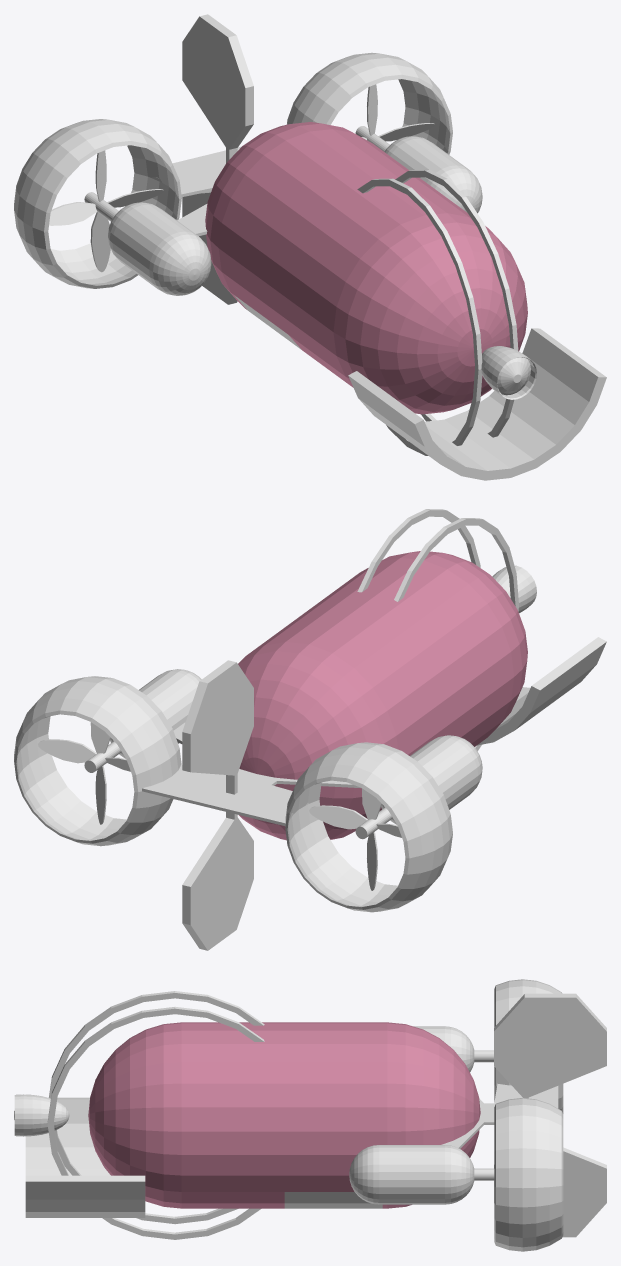
The model's file is Submersible.fbx.
The picture shows the model from 3 angles, top to bottom: view 1: azimuth 30°, elevation 25°; view 2: azimuth 150°, elevation 25°; view 3: azimuth 270°, elevation 25°; orthographic projection. The views are drawn at different scales.
Visible parts, largest first — view 1: Sphere, Sphere.004, Cylinder.005, Cube, Sphere.001, Sphere.002, Cylinder.004, Sphere.003, Cylinder.003, Circle.001, Cylinder.002, Sphere.005 (+2 smaller); view 2: Sphere, Sphere.004, Sphere.001, Cube, Plane, Cylinder.004, Sphere.002, Sphere.003, Circle, Circle.001, Cylinder.003, Cylinder.002 (+1 smaller); view 3: Sphere, Cube, Sphere.001, Sphere.003, Cylinder.005, Cylinder.002, Cylinder.004, Cylinder.003, Sphere.005, Sphere.004, Plane, Sphere.002.
Part boxes in pixels (x1,y1,x2,y2): Sphere: (205, 122, 527, 414); Sphere.004: (14, 119, 181, 288); Cylinder.005: (444, 328, 606, 477); Cube: (182, 14, 253, 304); Sphere.001: (287, 52, 452, 154); Sphere.002: (108, 202, 211, 295); Cylinder.004: (348, 371, 510, 480); Sphere.003: (384, 136, 482, 213); Cylinder.003: (357, 178, 482, 455); Circle.001: (49, 150, 164, 272); Cylinder.002: (395, 169, 518, 437); Sphere.005: (481, 346, 536, 399); Sphere: (238, 551, 527, 840); Sphere.004: (285, 742, 452, 912); Sphere.001: (14, 676, 181, 846); Cube: (182, 660, 253, 950); Plane: (142, 722, 361, 825); Cylinder.004: (477, 637, 606, 745); Sphere.002: (381, 735, 482, 824); Sphere.003: (110, 669, 201, 758); Circle: (38, 722, 130, 824); Circle.001: (309, 788, 401, 890); Cylinder.003: (394, 518, 518, 751); Cylinder.002: (357, 509, 480, 592); Sphere: (88, 1022, 480, 1208); Cube: (494, 993, 606, 1237); Sphere.001: (494, 1098, 563, 1251); Sphere.003: (349, 1145, 474, 1204); Cylinder.005: (25, 1175, 145, 1217); Cylinder.002: (47, 1006, 264, 1239); Cylinder.004: (25, 1097, 110, 1175); Cylinder.003: (49, 991, 264, 1224); Sphere.005: (14, 1094, 69, 1136); Sphere.004: (494, 979, 563, 1113); Plane: (441, 1083, 558, 1148); Sphere.002: (413, 1026, 474, 1071).
Size of the model in its own units: 465 by 283 by 634.
